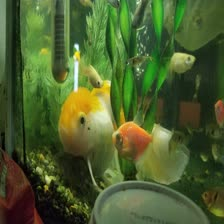Cuezo: (52, 82, 134, 184)
Plano: (111, 118, 155, 163)
